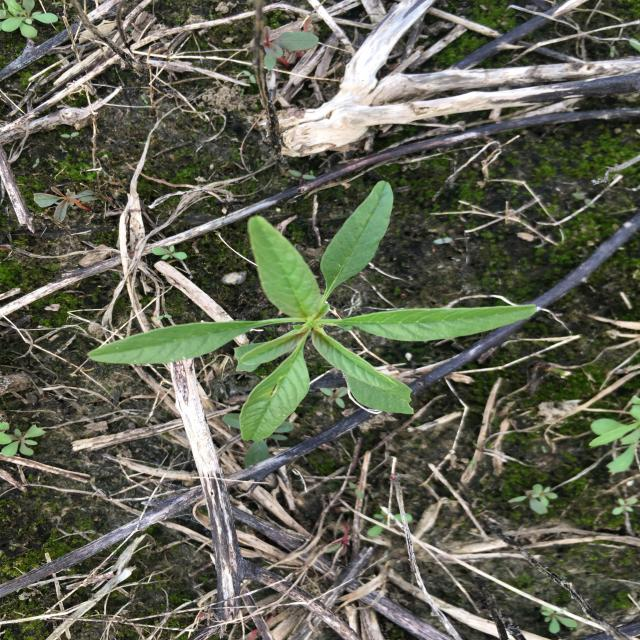Carpetweed: (1, 1, 61, 39), (0, 422, 47, 459)
Waterhemp: (84, 178, 541, 444)
